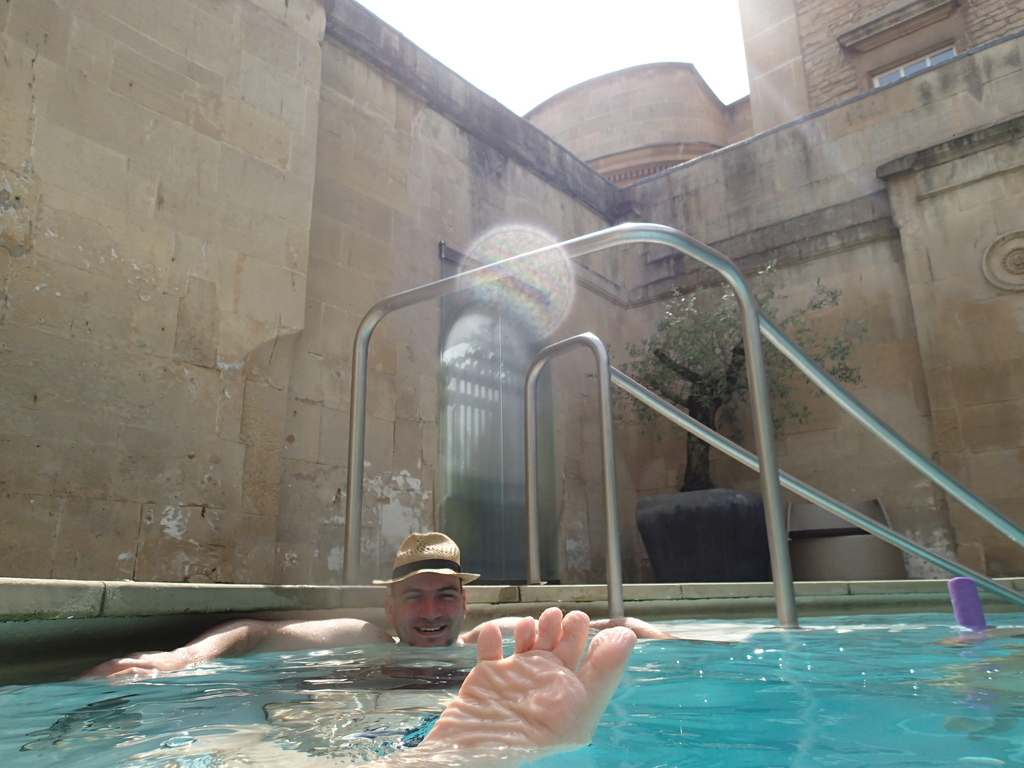Tree: (583, 256, 868, 493)
